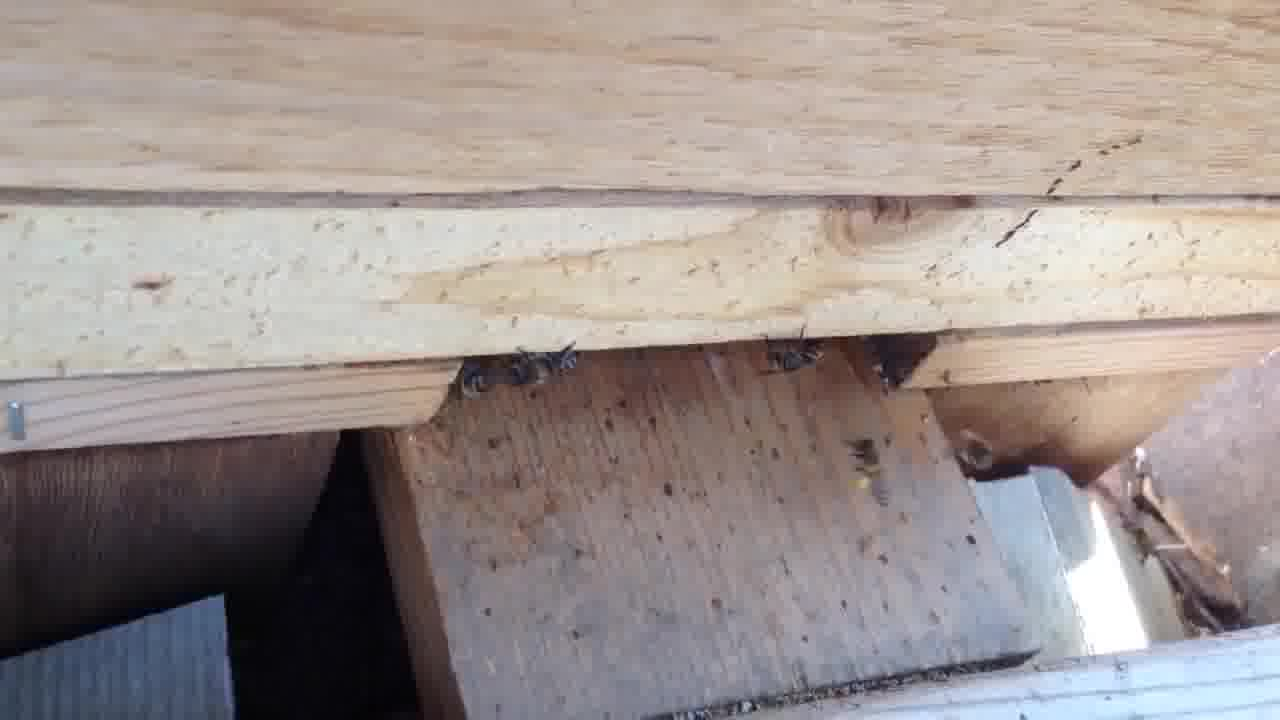pollen: (842, 434, 903, 512)
